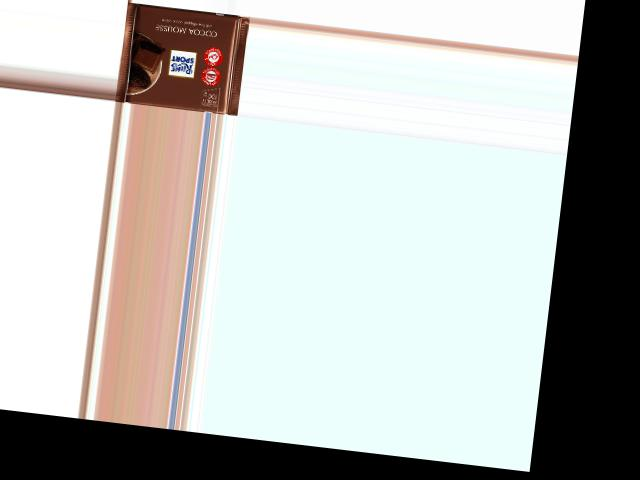chocolate: (115, 1, 247, 115)
